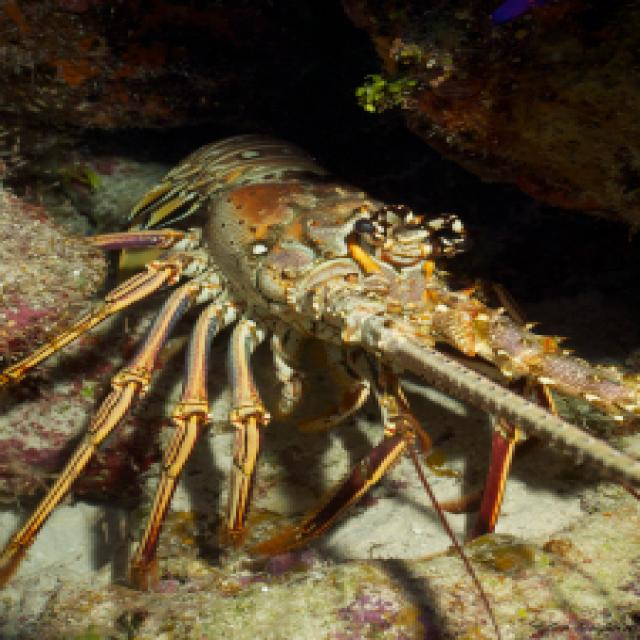lobsters: (53, 73, 640, 593)
